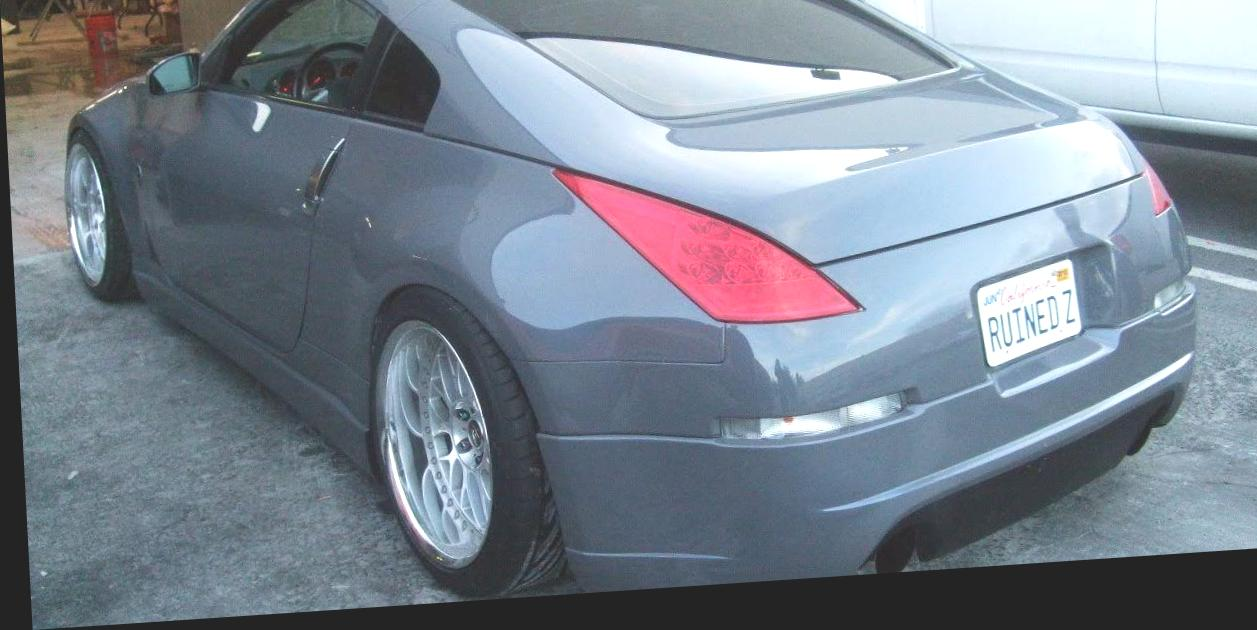License_Plate: (960, 248, 1112, 385)
